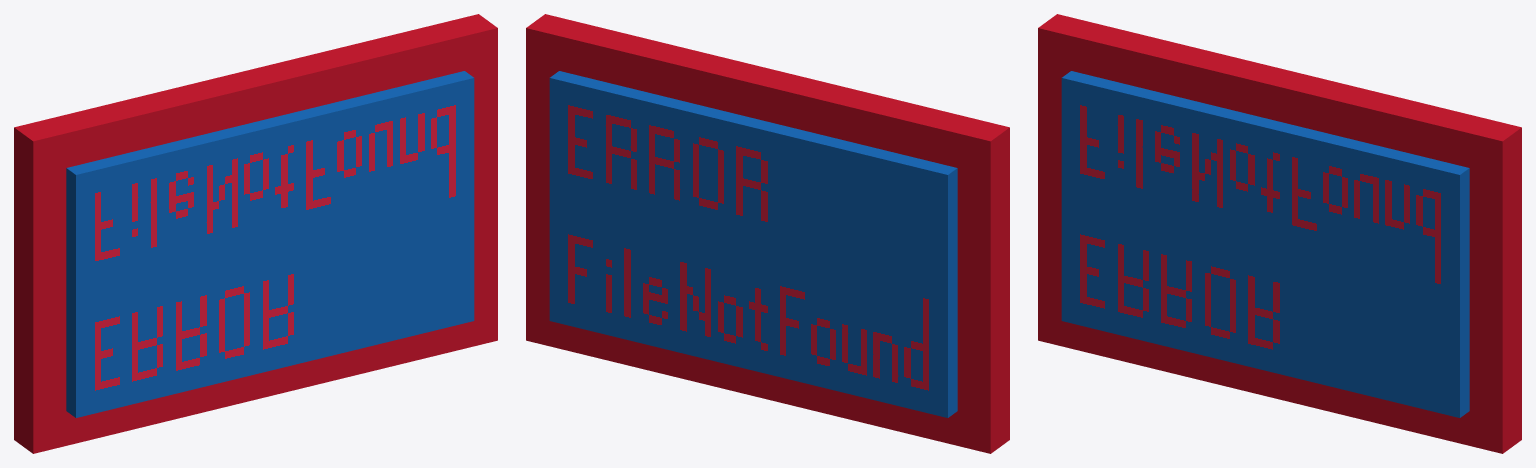
File: not_found.obj
3 renders of one model, left to right at view 1: azimuth 30°, elevation 25°; view 2: azimuth 150°, elevation 25°; view 3: azimuth 330°, elevation 25°, orthographic.
Parts seen in each view (by area): view 1: cube; view 2: cube; view 3: cube.
Part boxes in pixels (box(x1,y1,x2,y2)): cube: box(14, 14, 497, 453); cube: box(526, 14, 1009, 453); cube: box(1038, 14, 1521, 453).
Size of the model in its own units: 0.875 by 0.5625 by 0.125.
2 materials, 2 textured.
